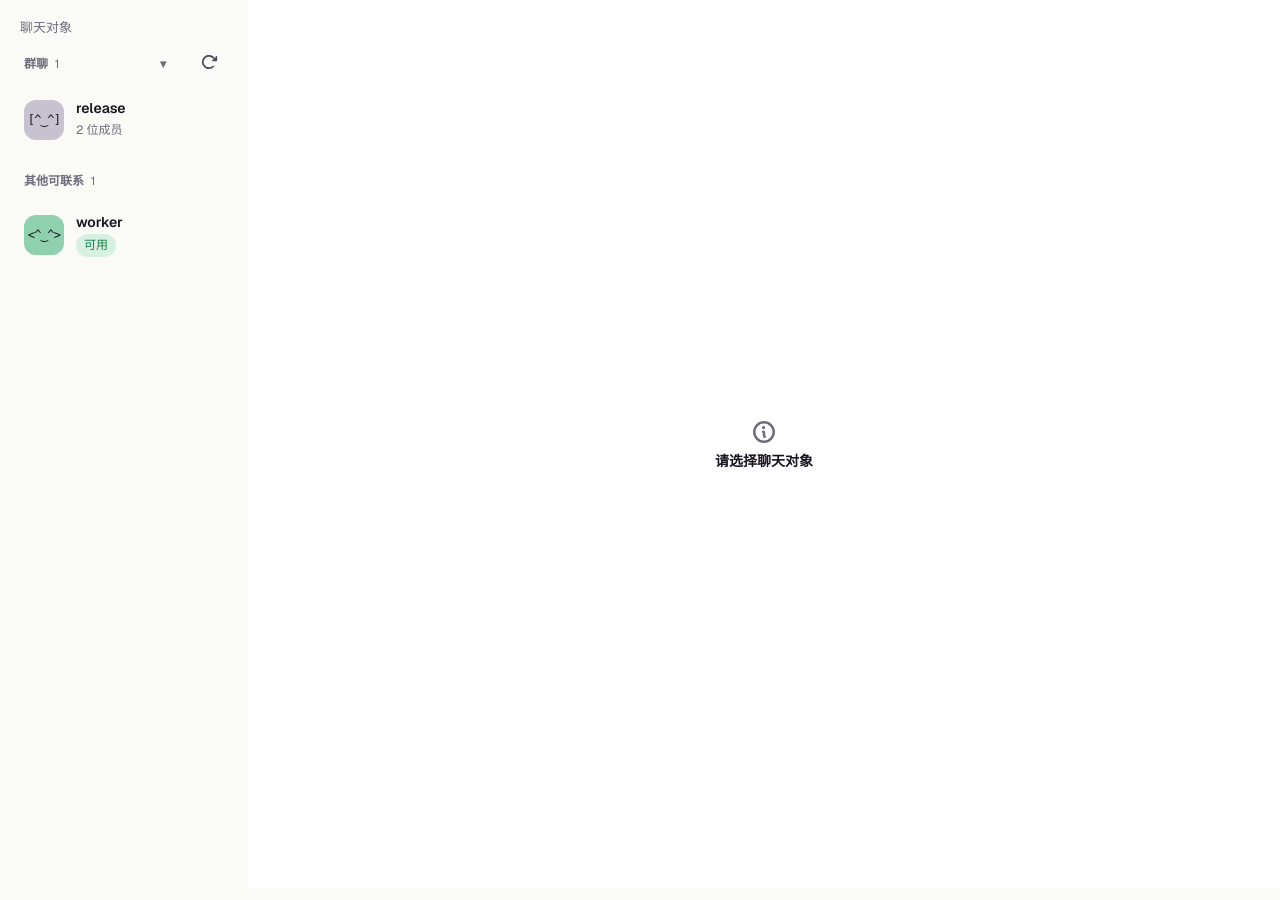
Test: ConnectedChatPage group send and reply › supports replying only to ordinary messages and sends replyTo in conversations.post
Click the button "[^‿^] release 2 位成员": [124, 120] box [12,88,236,152]
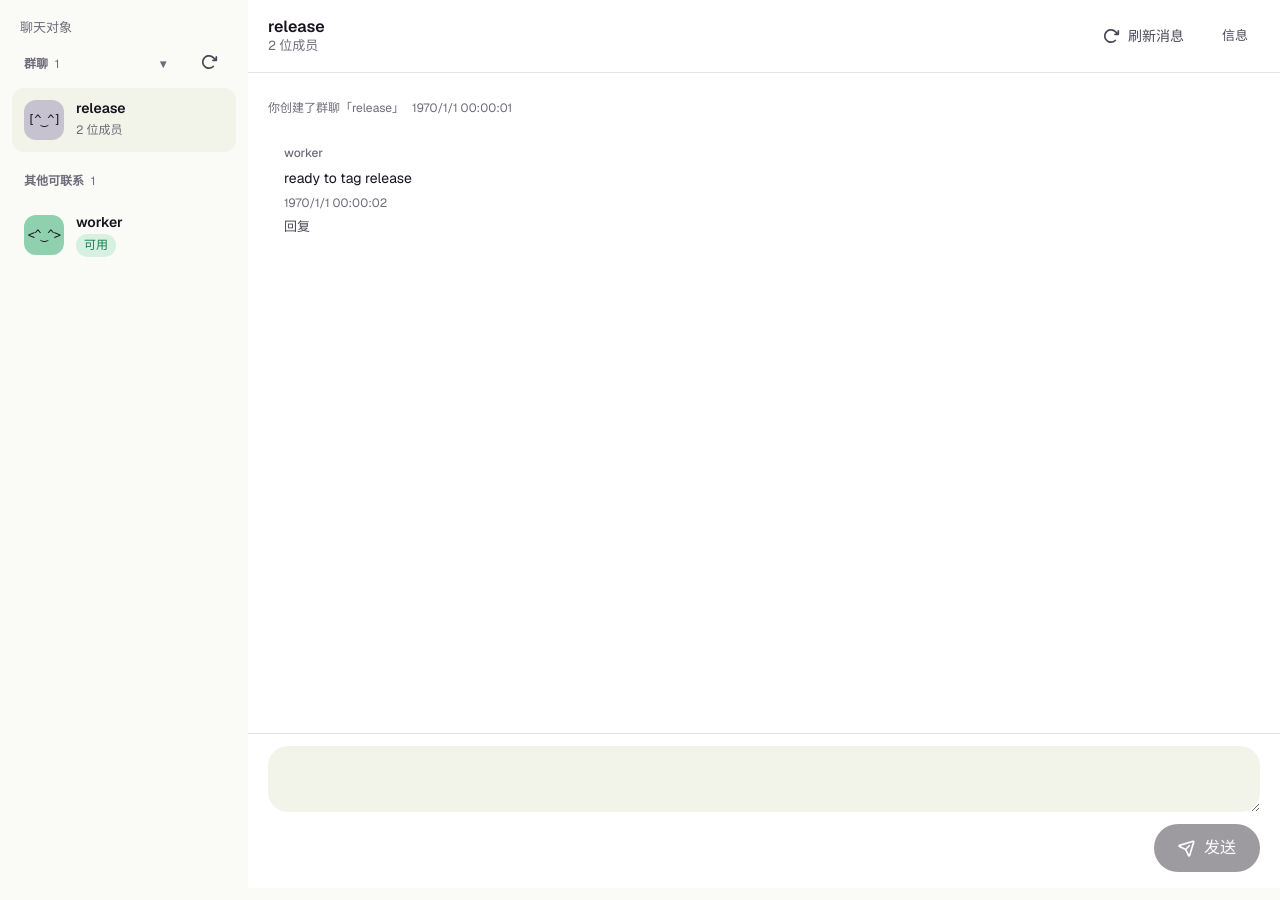
Now the text "ready to tag release" is shown, box [284,169,412,187]
Click the button "回复": [297, 227] box [284,217,310,237]
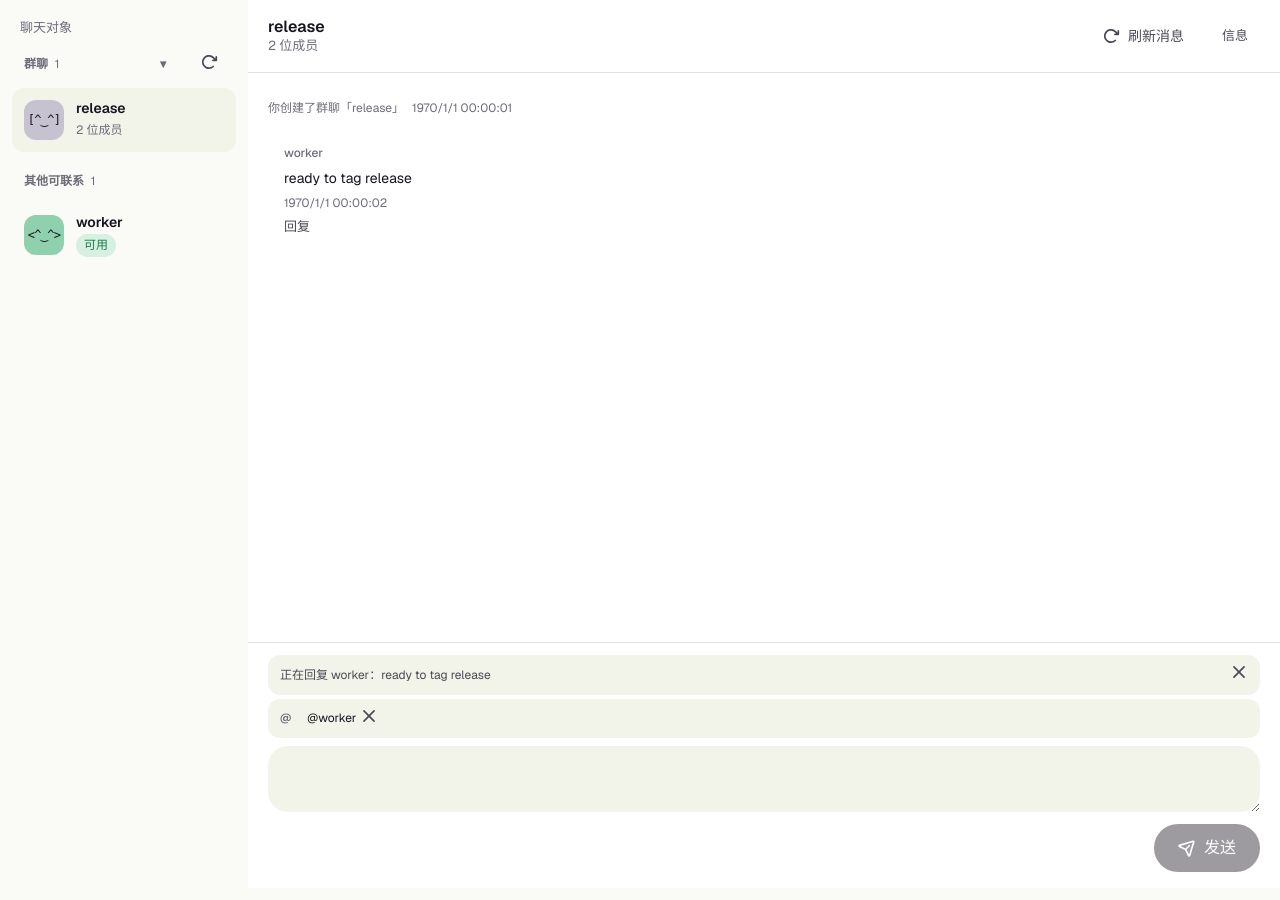
Now the text "正在回复 worker：ready to tag release" is shown, box [280,666,491,684]
Click the button named "取消回复": [1239, 675] box [1230,663,1248,686]
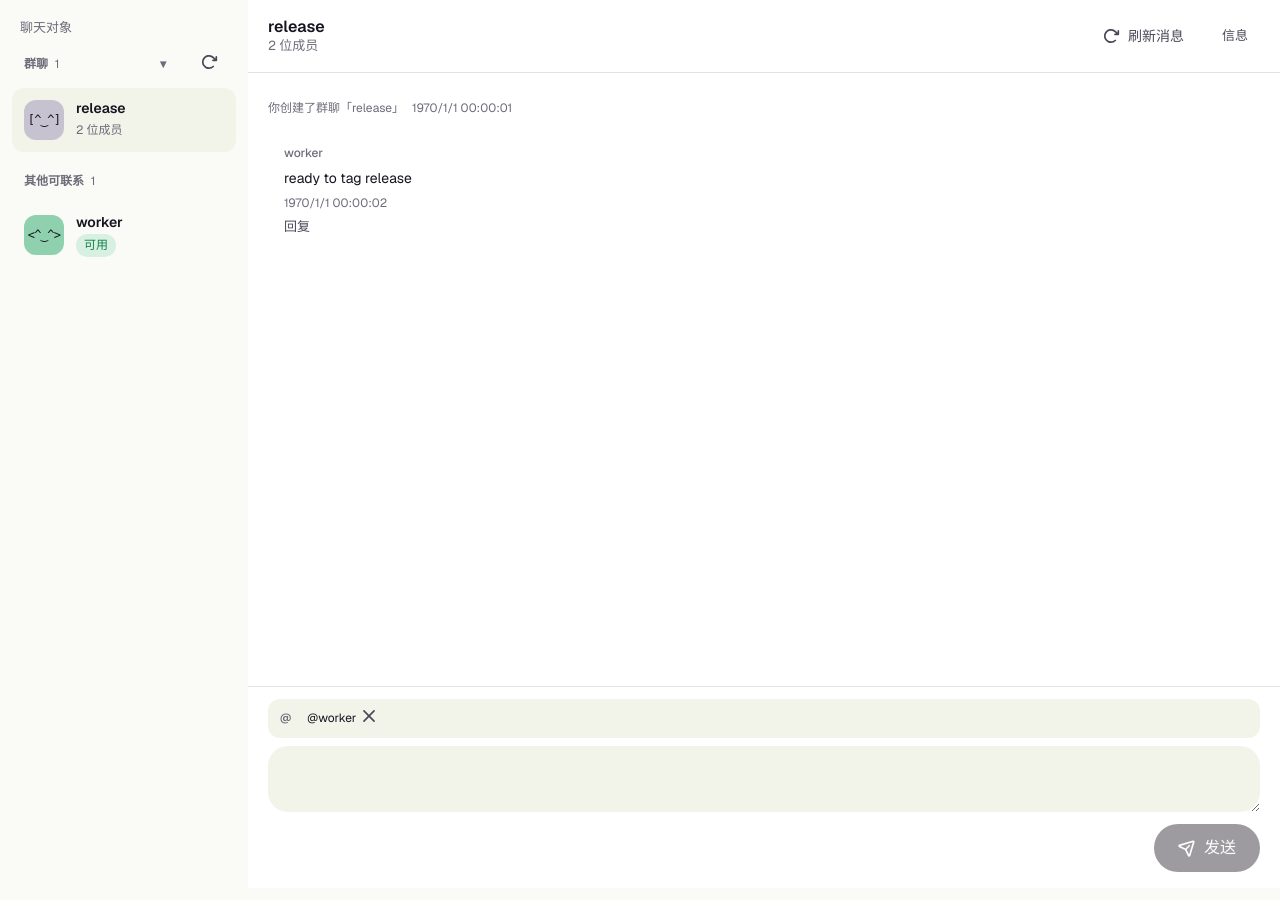
Now the text "正在回复" is gone
Click the button "回复": [297, 227] box [284,217,310,237]
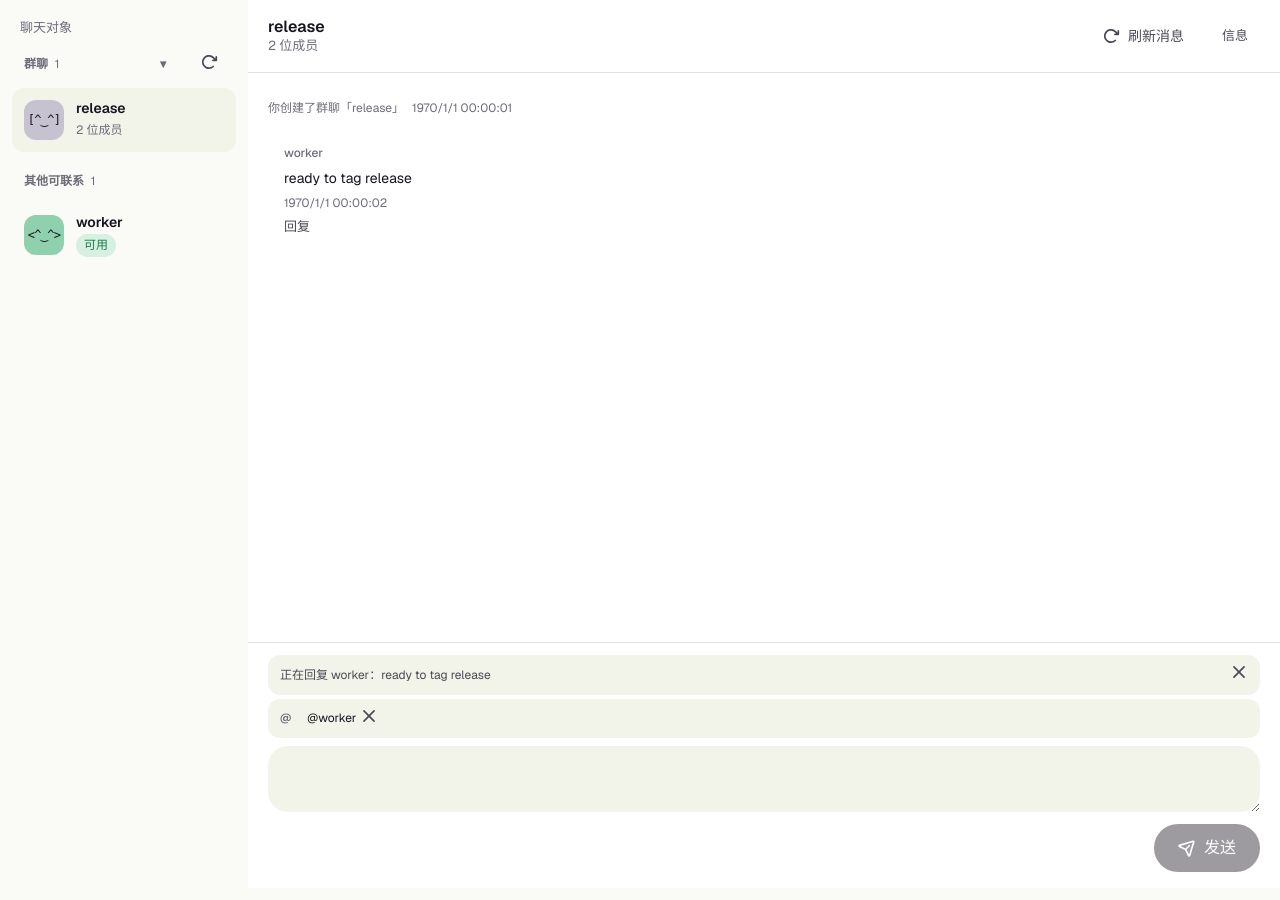
Now the text "正在回复 worker：ready to tag release" is shown, box [280,666,491,684]
In the text box named "给 release 的消息": [764, 779] box [268,746,1260,812], type "go ahead"
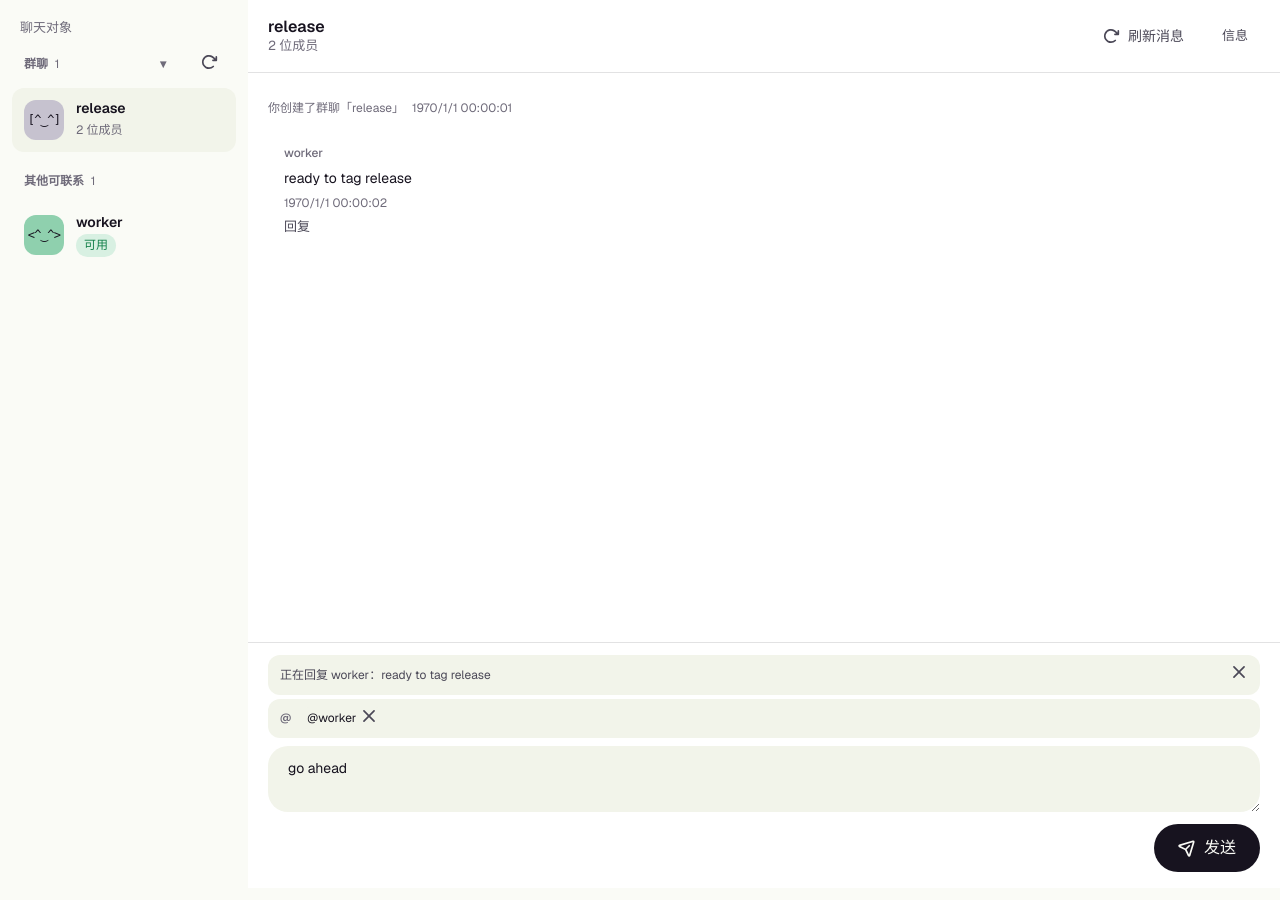
Click the button "发送": [1207, 848] box [1154,824,1260,872]
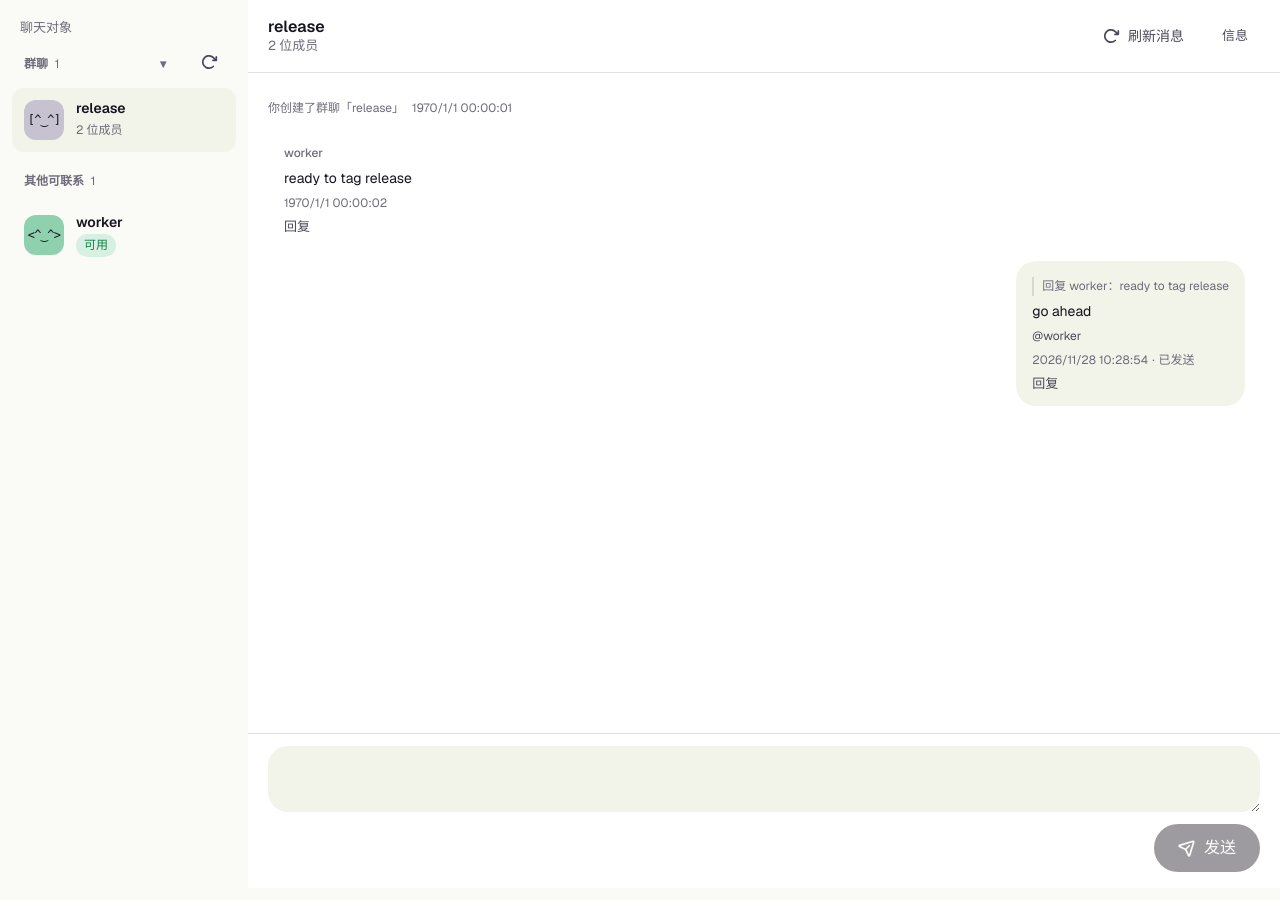
Now the text "回复 worker：ready to tag release" is shown, box [1032,277,1229,296]
Now the text "正在回复" is gone
